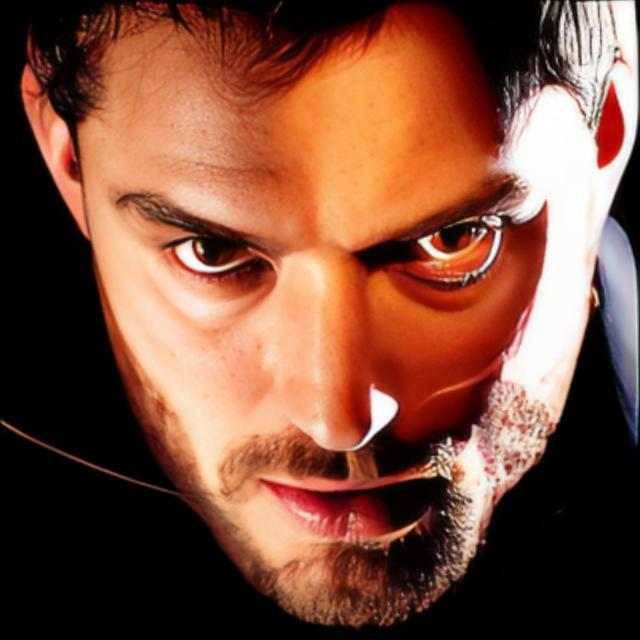anger: (110, 41, 550, 606)
